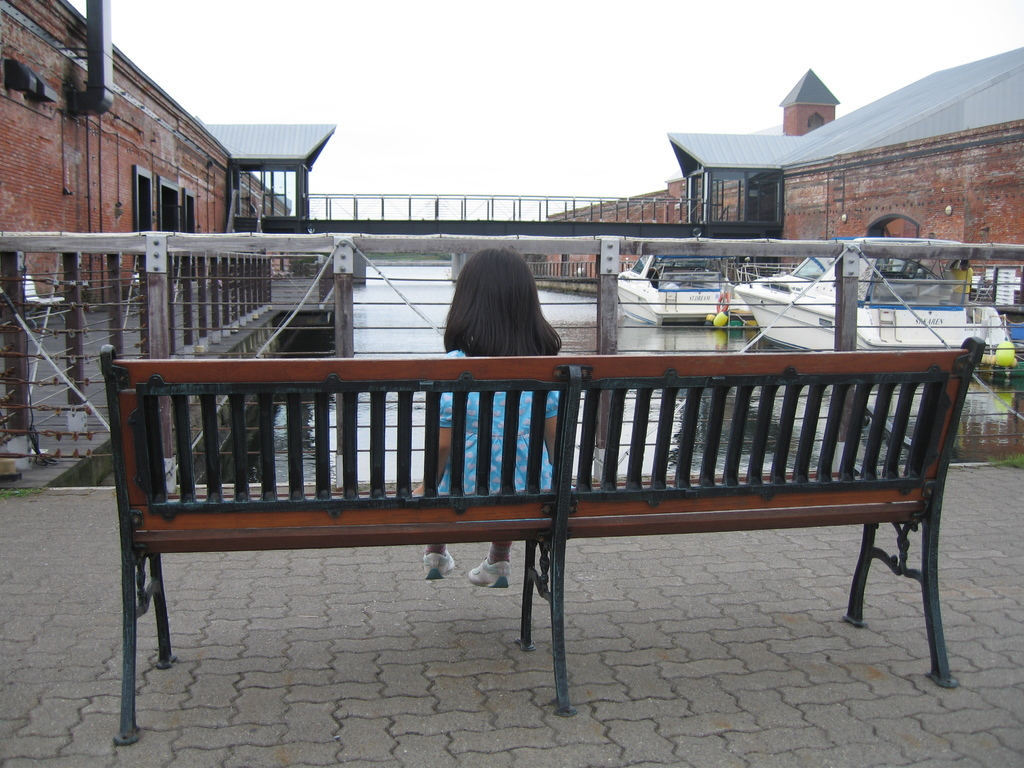Person: (949, 259, 973, 303)
